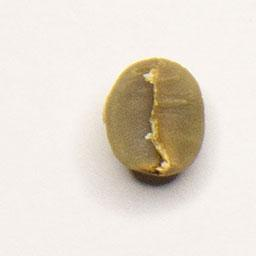premium: (99, 52, 211, 183)
